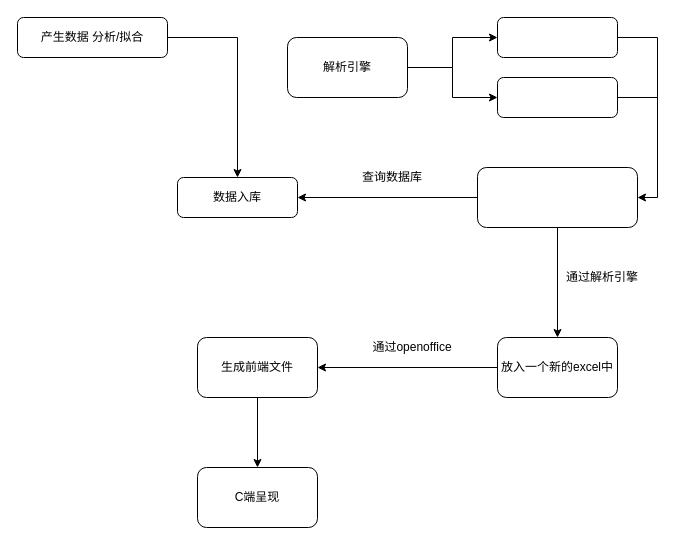
Image size: 683x545. Some labels were removed from this diagram. Each missing label, with the centre of its shape:
从excel获取格式: point (557, 97)
从xml获取内容: point (557, 37)
读取dataset结果集数据: point (557, 197)
